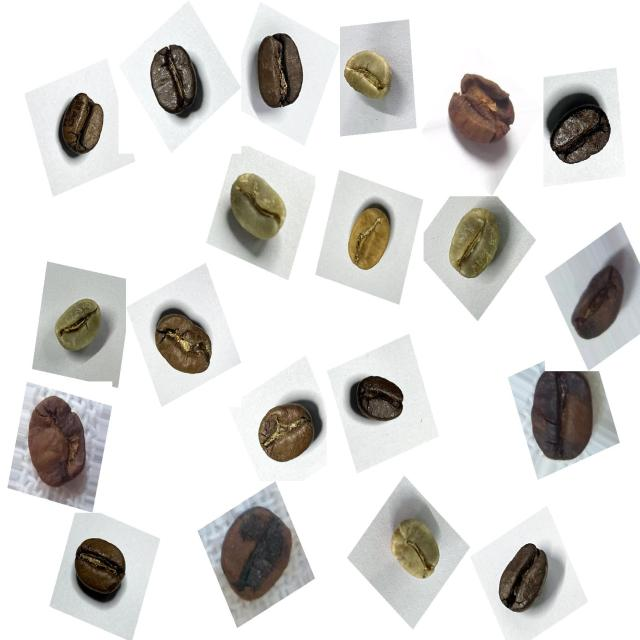bad: (207, 498, 301, 614), (516, 359, 608, 474), (19, 386, 102, 500), (442, 62, 526, 158), (566, 255, 639, 353)
dark: (542, 85, 622, 181), (137, 32, 211, 128), (246, 22, 318, 119), (488, 531, 558, 626), (345, 360, 416, 436)
green: (220, 162, 300, 262), (438, 198, 513, 294), (378, 508, 451, 595), (43, 286, 113, 368), (336, 38, 402, 113)
light: (336, 194, 402, 283)
medium: (146, 301, 223, 388), (246, 390, 324, 475), (67, 524, 140, 612), (50, 84, 113, 167)
